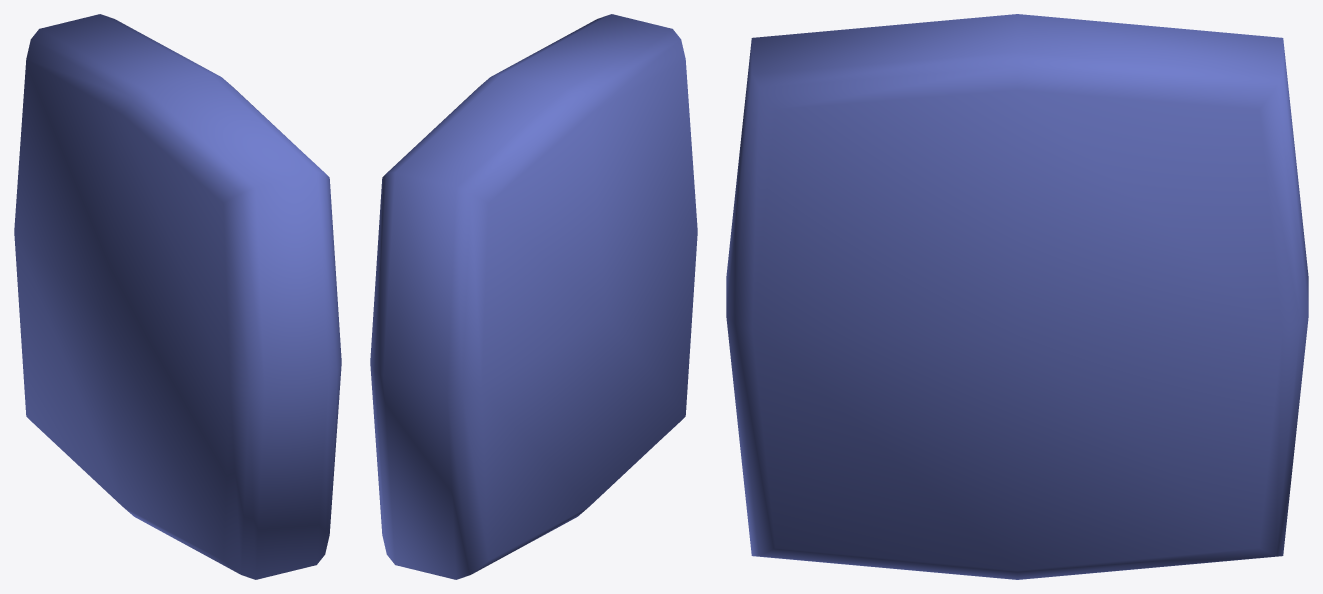
Rendered from pillow1.fbx.
3 views of the same model, side by side, from view 1: azimuth 30°, elevation 25°; view 2: azimuth 150°, elevation 25°; view 3: azimuth 270°, elevation 25° (orthographic). The views are drawn at different scales.
Parts seen in each view (by area): view 1: pillow A; view 2: pillow A; view 3: pillow A.
Part boxes in pixels (left/top/right/bottom): pillow A: left=14, top=14, right=341, bottom=579; pillow A: left=370, top=14, right=697, bottom=579; pillow A: left=726, top=14, right=1308, bottom=579.
Bounding box in the file's own units: 84.35 × 241 × 241.
